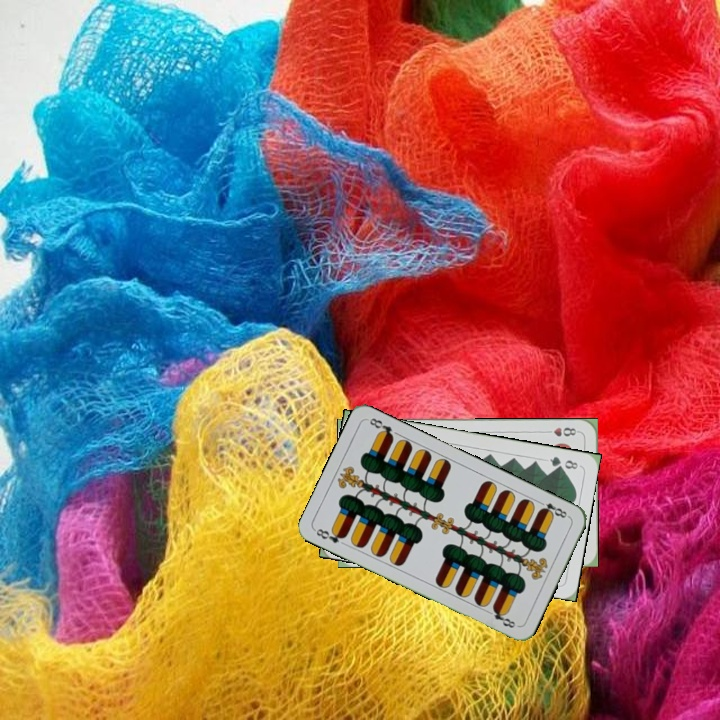E8: (534, 497, 572, 521), (311, 524, 349, 546)
G8: (546, 452, 581, 472)
H8: (541, 423, 581, 439)
